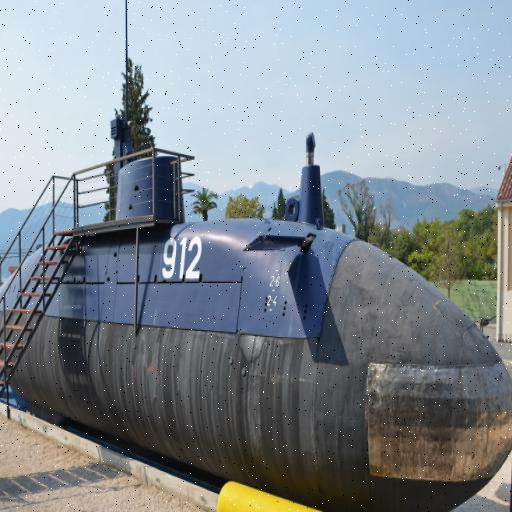submarine: (1, 149, 512, 512)
